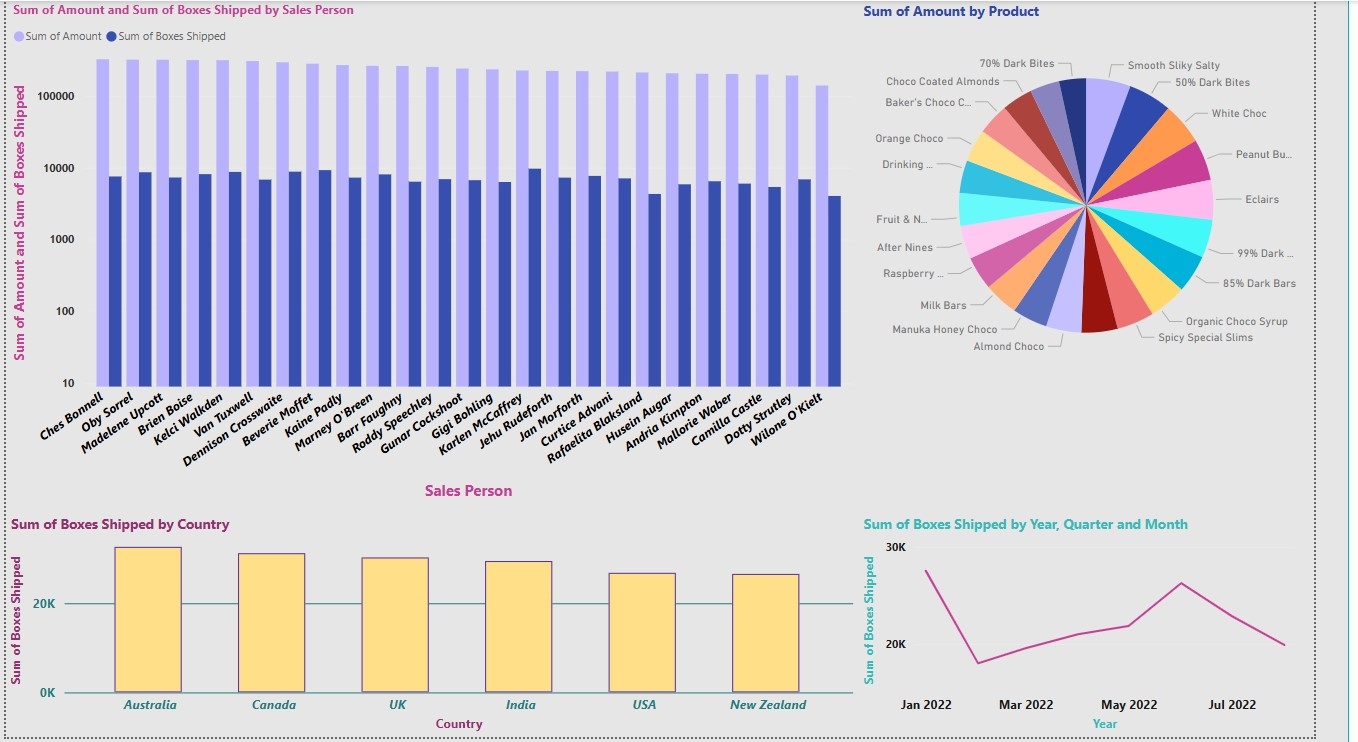

Layout of this report page (visuals, bound fields, positions):
{"tool":"powerbi","page":{"name":"Page 1","canvas":[1280,720],"ordinal":0},"visuals":[{"type":"clusteredColumnChart","fields":{"Y":["data.Amount","data.Boxes Shipped"],"Category":["data.Sales Person"]},"box":[0,0,834.3,492.9],"z":0},{"type":"lineClusteredColumnComboChart","fields":{"Category":["data.Country"],"Y":["data.Boxes Shipped"]},"box":[0,503,834,217],"z":1000},{"type":"pieChart","fields":{"Y":["data.Amount"],"Category":["data.Product"]},"box":[834.3,0,445.7,382.9],"z":2000},{"type":"lineChart","fields":{"Category":["data.Date.Variation.Date Hierarchy.Year","data.Date.Variation.Date Hierarchy.Quarter","data.Date.Variation.Date Hierarchy.Month","data.Date.Variation.Date Hierarchy.Day"],"Y":["data.Boxes Shipped"]},"box":[834.3,502.9,445.7,217.1],"z":3000}]}

Visuals, with their boxes in screenshot pixels (x1, y1, x2, y2), scaled from the page's 1280x720 canvas onto the 1358x742 screenshot:
clusteredColumnChart - data.Amount x data.Boxes Shipped: {"left": 0, "top": 0, "right": 885, "bottom": 508}
lineClusteredColumnComboChart - data.Country x data.Boxes Shipped: {"left": 0, "top": 518, "right": 885, "bottom": 741}
pieChart - data.Amount x data.Product: {"left": 885, "top": 0, "right": 1357, "bottom": 395}
lineChart - data.Date.Variation.Date Hierarchy.Year x data.Date.Variation.Date Hierarchy.Quarter: {"left": 885, "top": 518, "right": 1357, "bottom": 741}
